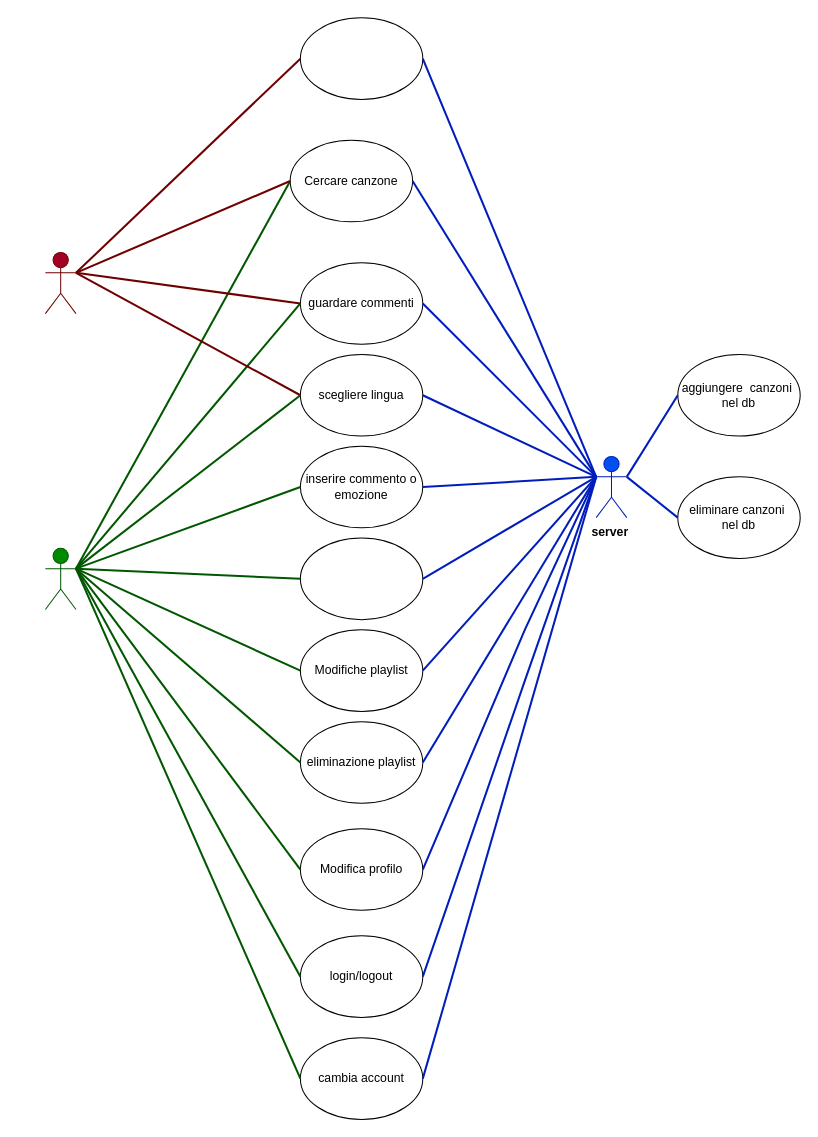
The diagram is 818 pixels wide and 1137 high, and some of its shapes have lost their labels. The box of each missing label's shape, as (x1, y1, x2, y2) in pixels:
Creazione playlist: (299, 537, 423, 620)
sign in: (299, 17, 423, 99)
utente non registrato: (44, 251, 76, 314)
utente registrato: (44, 547, 76, 609)
